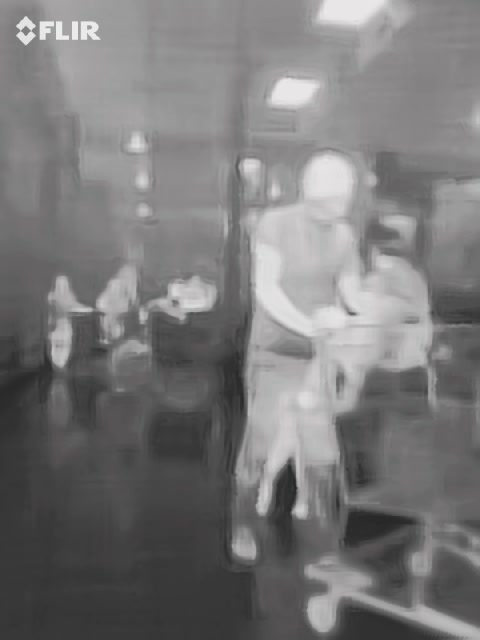head: (298, 149, 361, 224)
